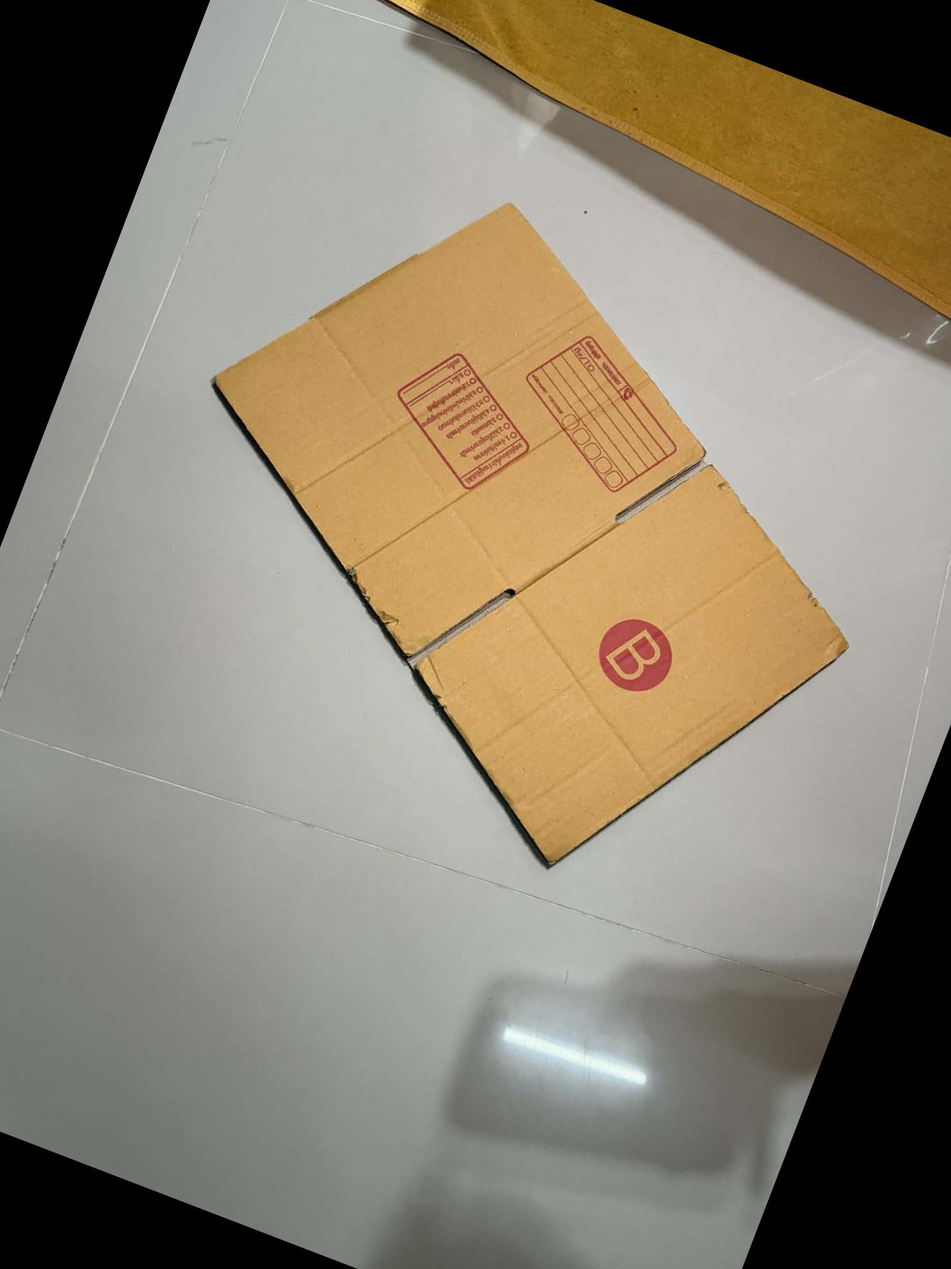box: (501, 319, 707, 510), (369, 341, 551, 510), (585, 606, 689, 704)
class0: (85, 118, 951, 950)
